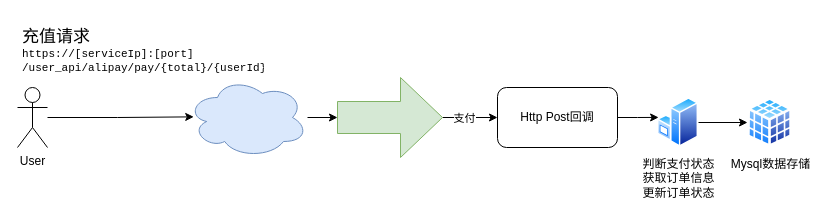
This 827x217 diagram has some shape labels left out. The centre of each missing label's shape, as x and y in pixels:
"根据用户信息生成订单存储" belongs at (247,117).
"跳转到支付界面" belongs at (389,117).
